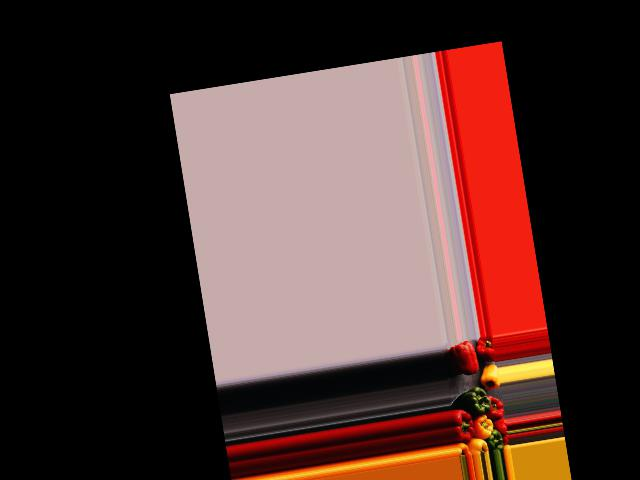bell_pepper: (474, 334, 494, 364)
